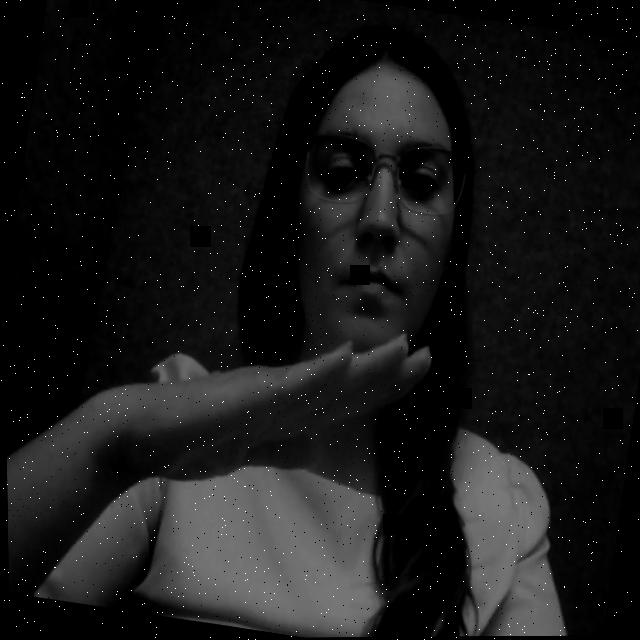Paper: (93, 291, 462, 538)
